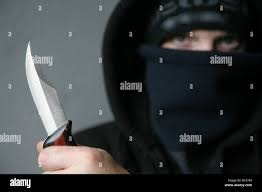knife: (23, 38, 73, 148)
mask: (127, 1, 260, 144)
